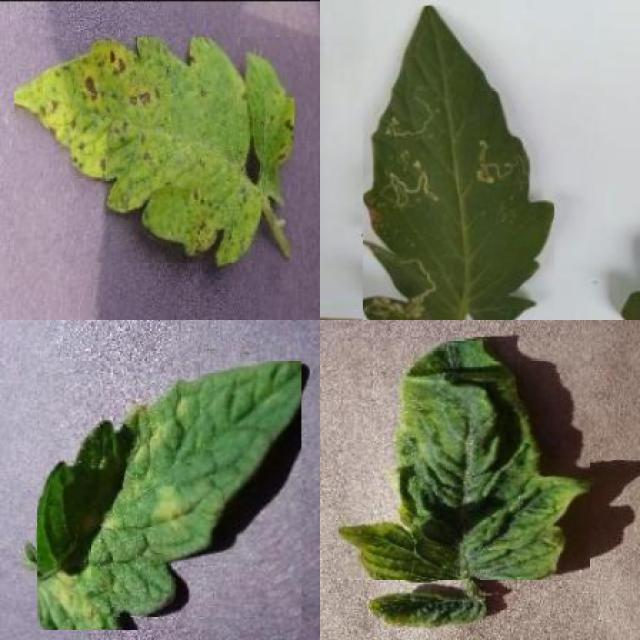Leaf Miner: (363, 6, 554, 320)
Leaf Mold: (37, 360, 302, 630)
Septoria: (15, 37, 295, 263)
Yellow Leaf Curl Virus: (339, 337, 591, 580), (372, 583, 487, 628)
